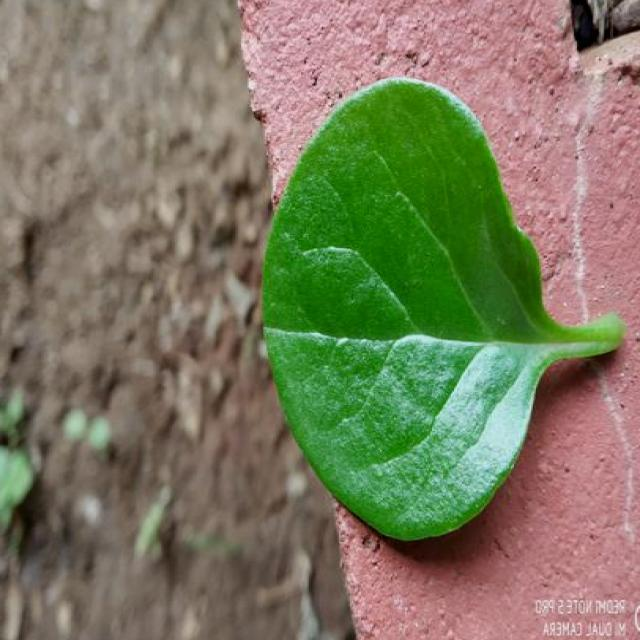leaf: (259, 75, 626, 542)
